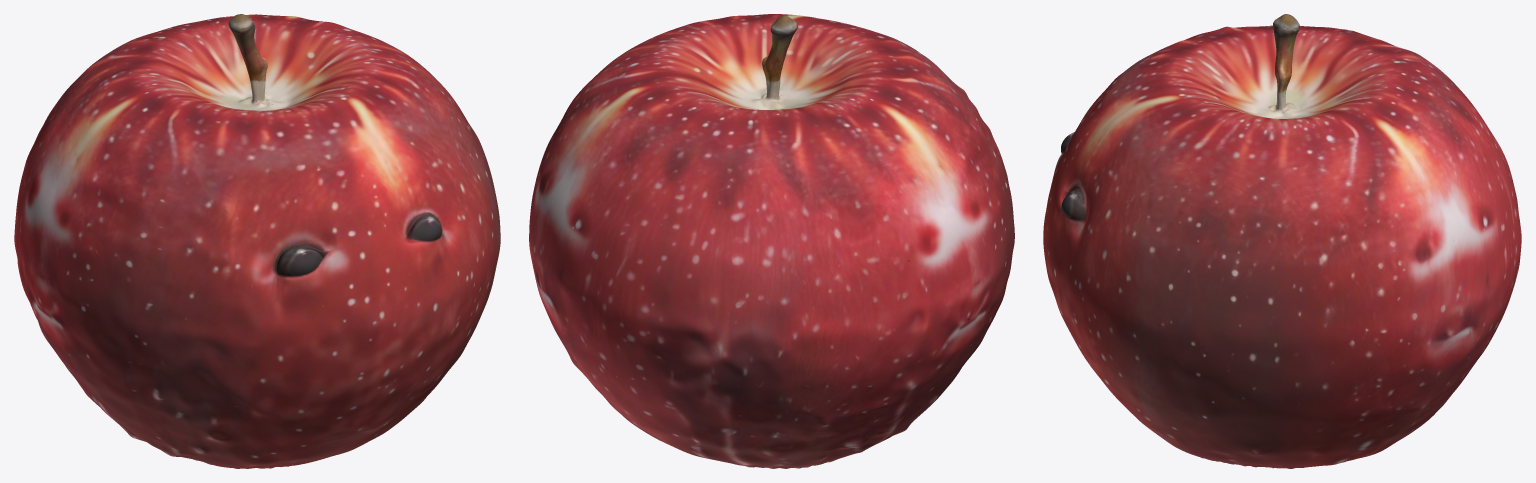
The model's file is Meshy_AI_Chatty_Apple_0518224900_texture.glb.
3 renders of one model, left to right at view 1: azimuth 30°, elevation 25°; view 2: azimuth 150°, elevation 25°; view 3: azimuth 270°, elevation 25°, orthographic.
Size of the model in its own units: 2 by 1.86 by 2.
Materials: 1 (1 with a texture image).
